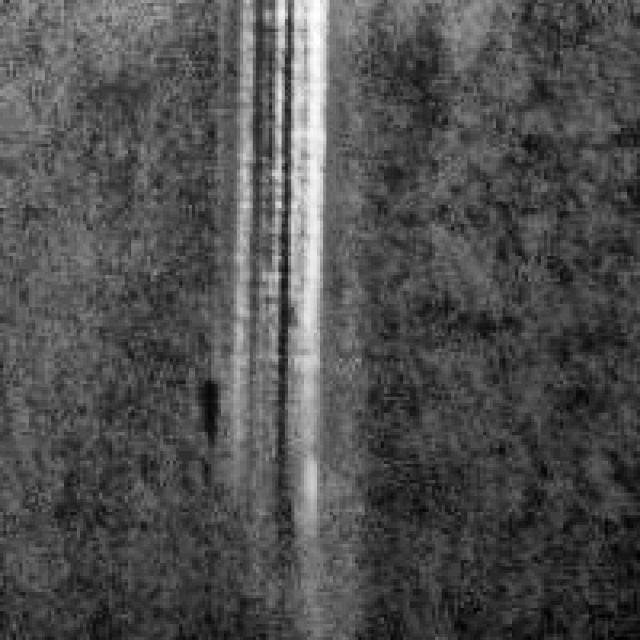Inclusion: (220, 0, 324, 496)
